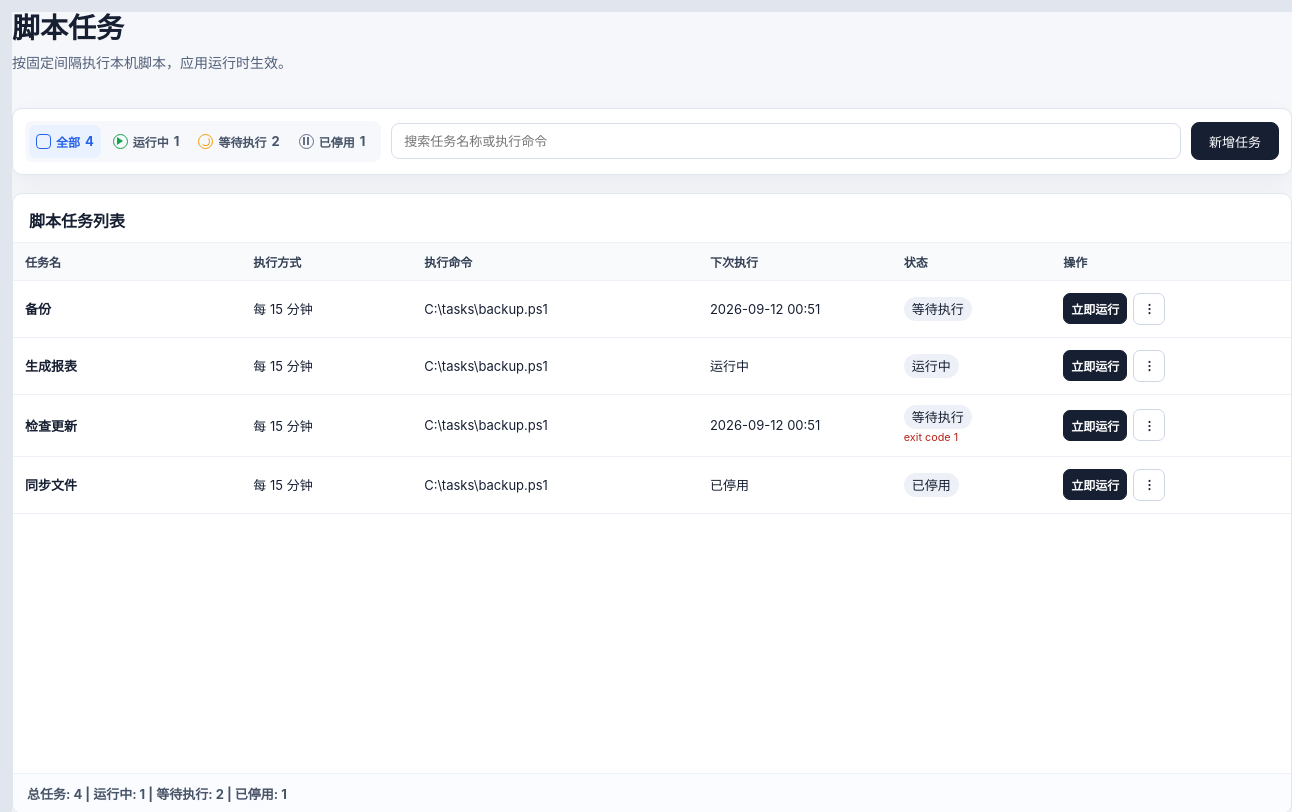
Scenario: loads and shows script tasks
Expected: the heading "脚本任务" is shown, [12,12,124,45]
Expected: the text "按固定间隔执行本机脚本，应用运行时生效。" is shown, [12,52,292,72]
Type "report" into the field with placeholder "搜索任务名称或执行命令" at (786, 141), box [391,123,1181,159]
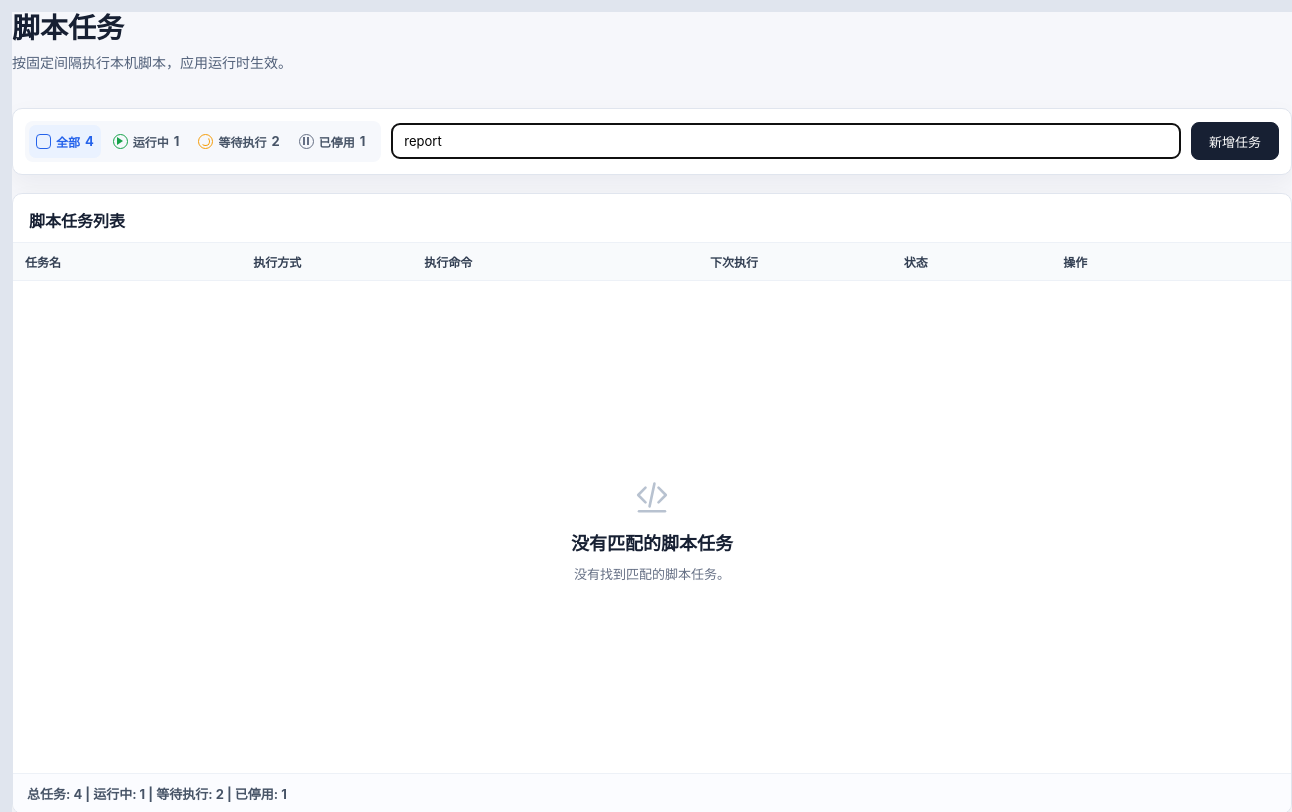
Expected: the text "备份" is gone
